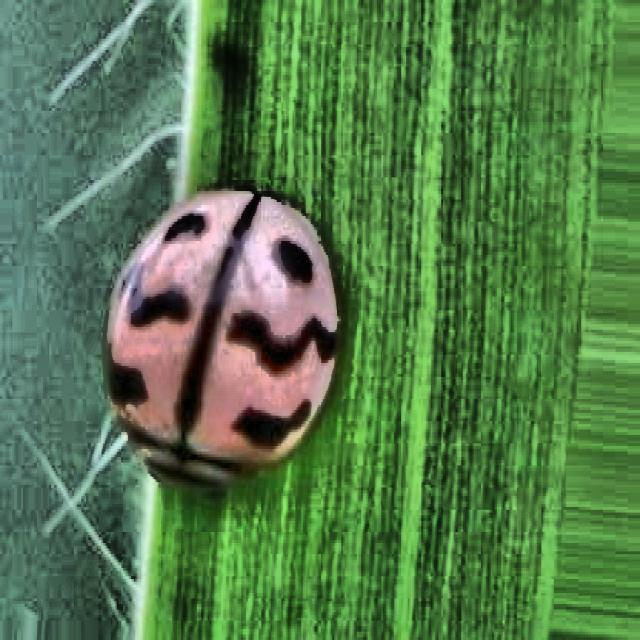Asian-Lady-beetle: (80, 143, 368, 516)
